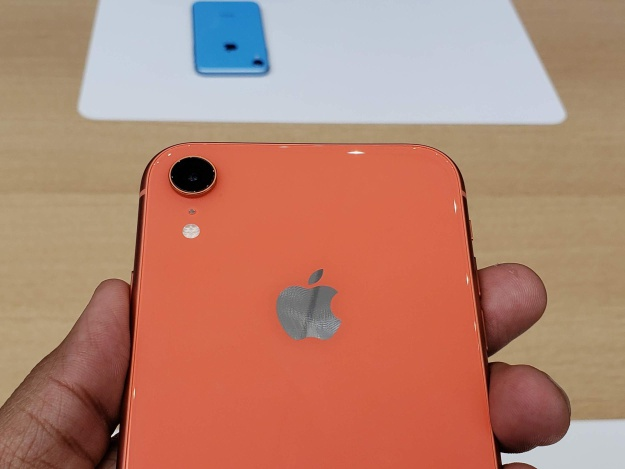apple: (258, 253, 360, 351)
